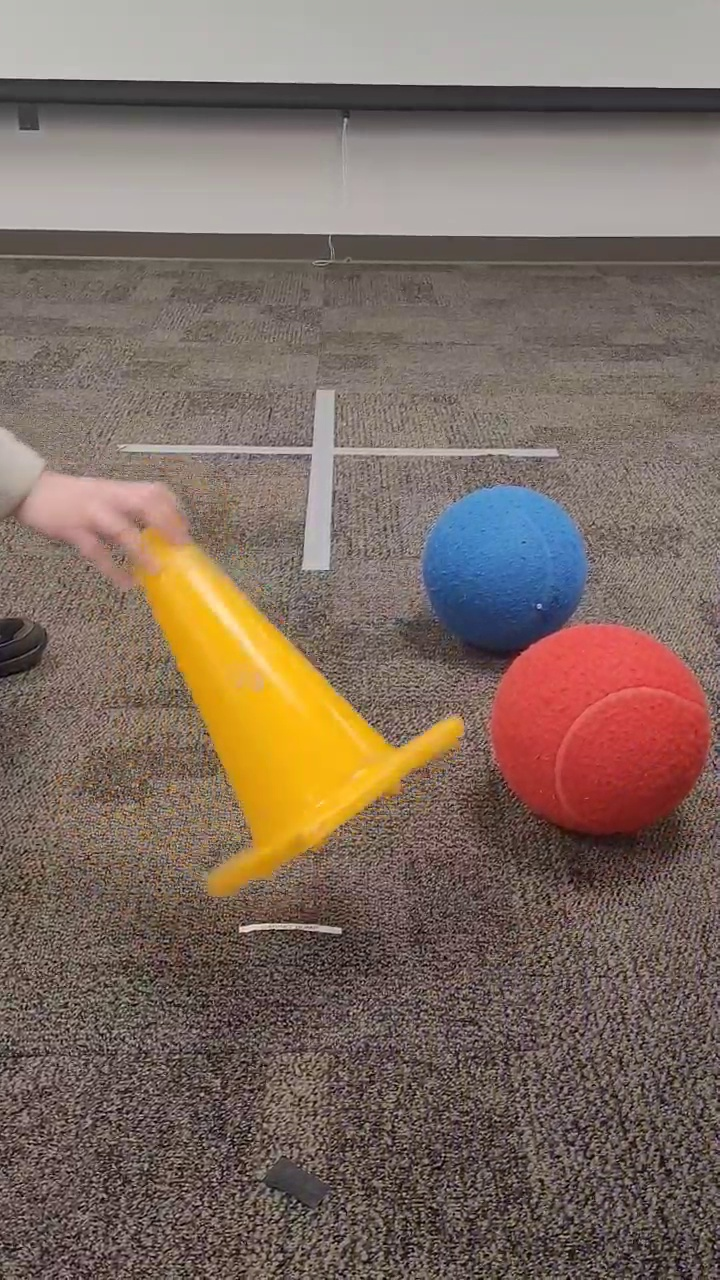ball: (485, 616, 715, 844), (420, 481, 590, 657)
cone: (125, 516, 467, 901)
foot: (1, 610, 52, 685)
hand: (1, 420, 192, 596)
